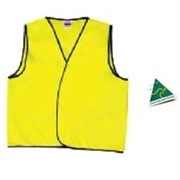safety vest: (7, 15, 127, 153)
